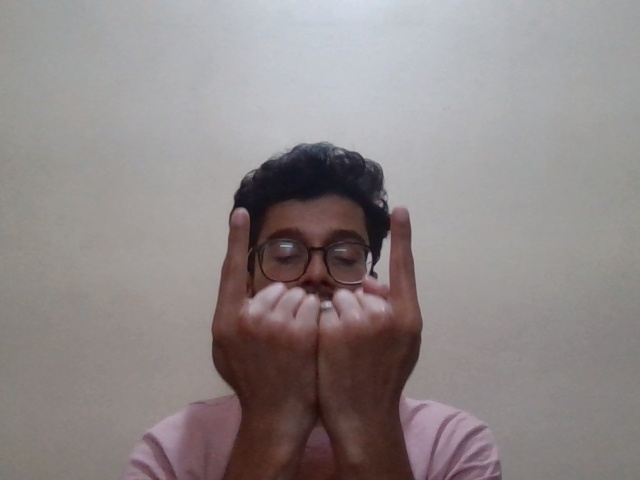when: (209, 206, 450, 405)
